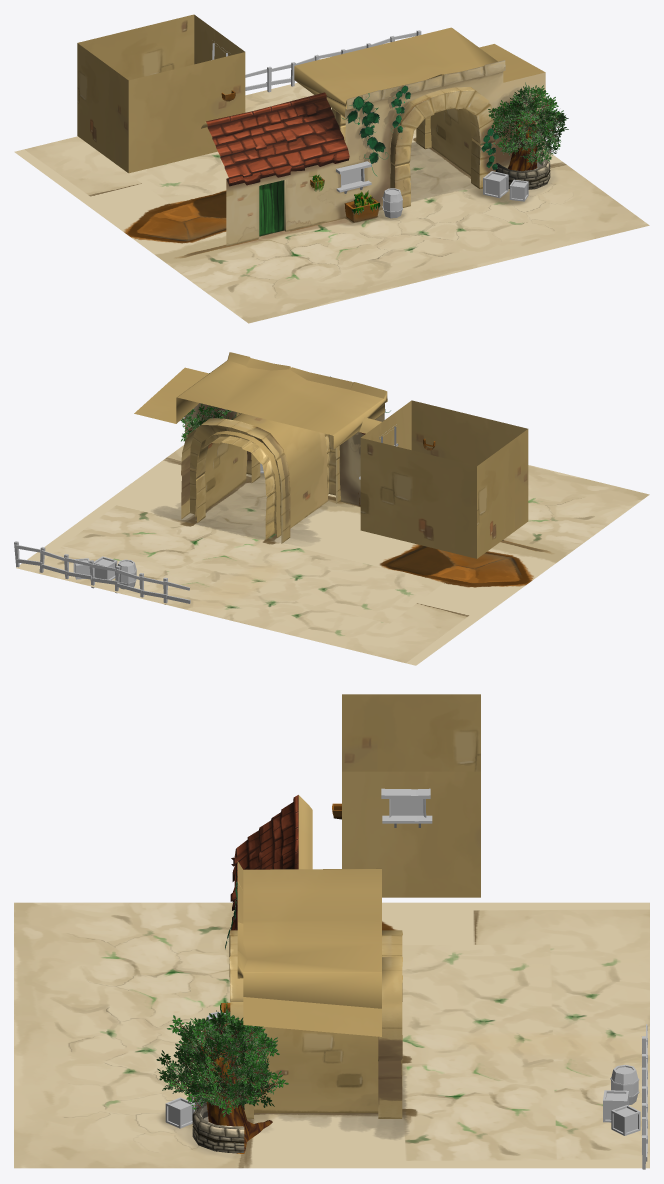
The model's file is t1_tunnel.fbx.
3 renders of one model, top to bottom at view 1: azimuth 30°, elevation 25°; view 2: azimuth 150°, elevation 25°; view 3: azimuth 270°, elevation 25°, orthographic. The views are drawn at different scales.
Parts seen in each view (by area): view 1: Cube, Plane, Plane.056, Cube.001; view 2: Plane, Cube, Cube.001, Plane.056; view 3: Plane, Cube, Plane.056, Cube.001.
Boxes of the visible parts, x1,y1,x2,y2 form: Cube: (77, 14, 550, 246); Plane: (14, 82, 649, 323); Plane.056: (311, 82, 568, 214); Cube.001: (211, 30, 528, 218); Plane: (16, 438, 649, 665); Cube: (134, 352, 528, 558); Cube.001: (14, 424, 398, 604); Plane.056: (180, 371, 390, 441); Plane: (14, 803, 649, 1168); Cube: (192, 694, 480, 1153); Plane.056: (156, 870, 288, 1153); Cube.001: (165, 788, 647, 1169).
Bounding box in the file's own units: 1743 × 650 × 1751.
